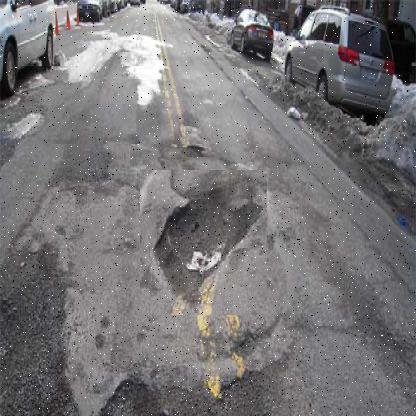pothole: (140, 170, 268, 316)
